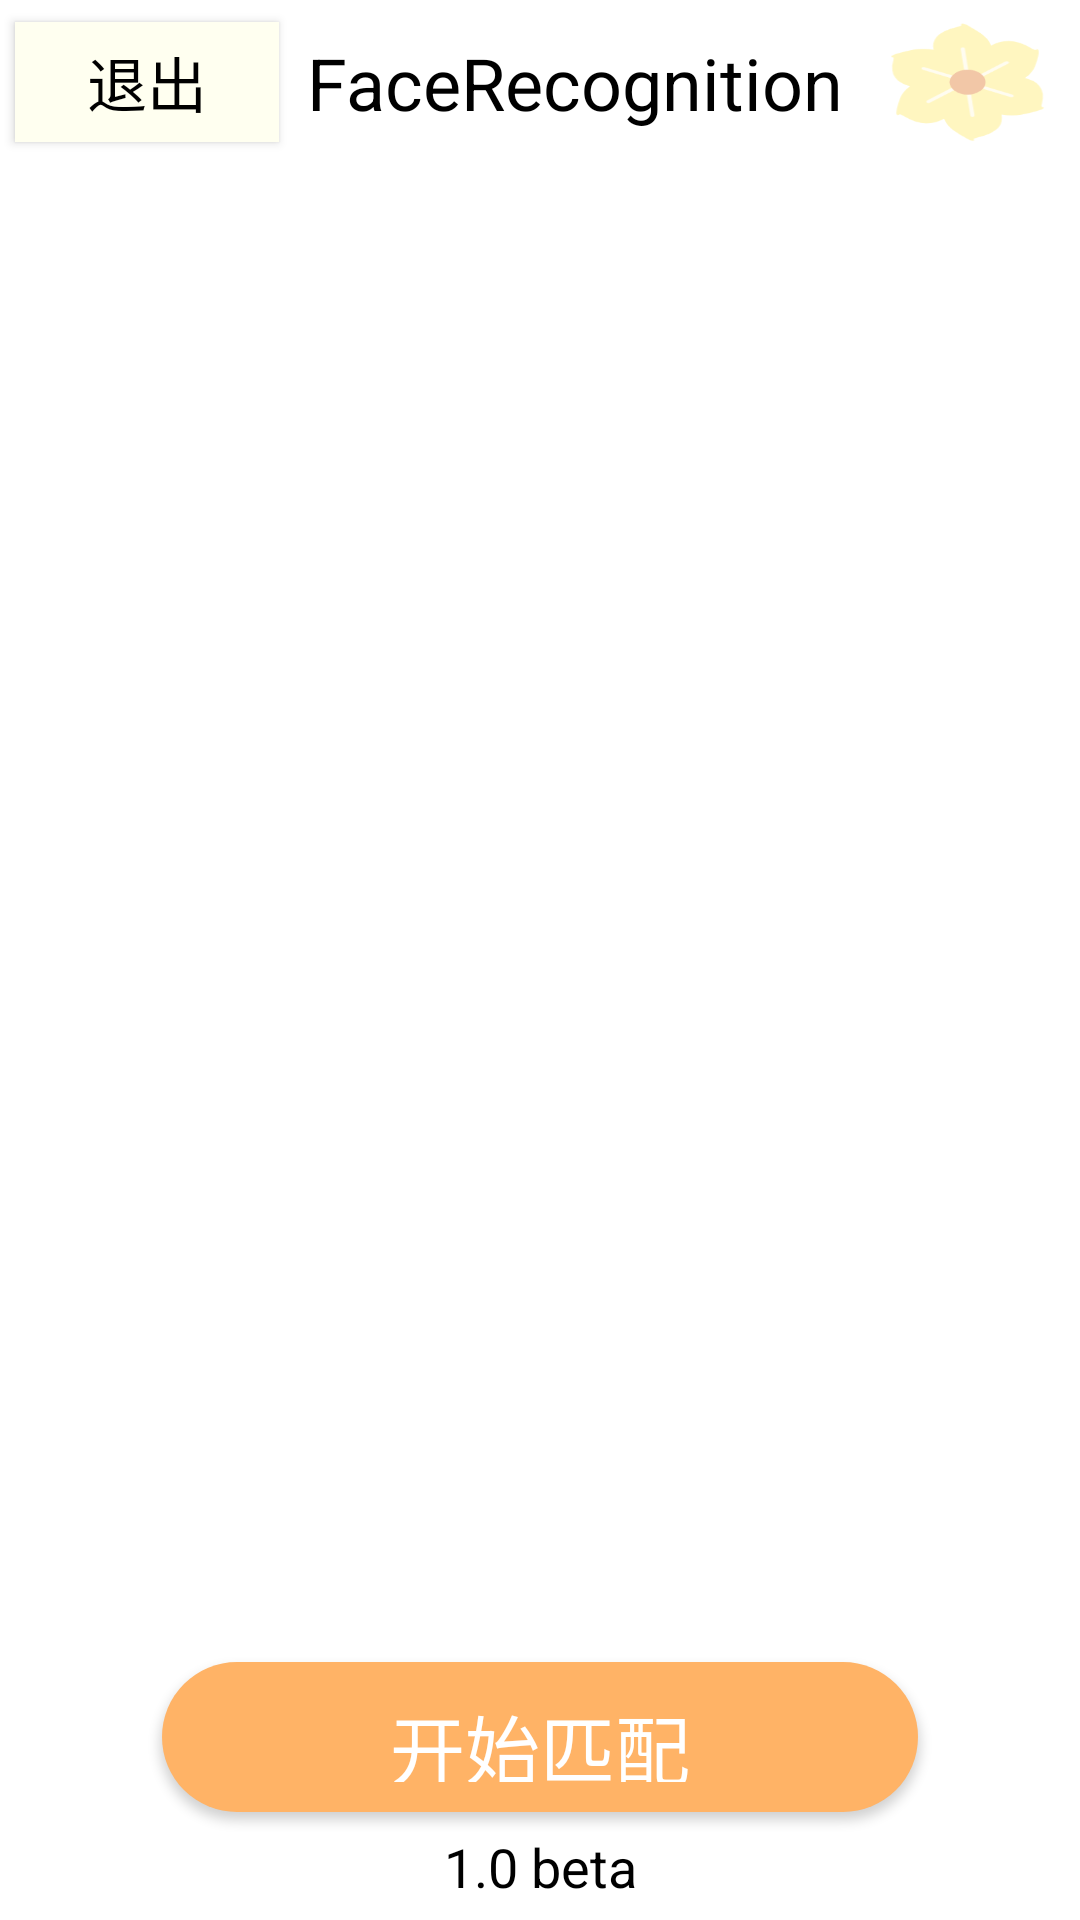

Point at icon controls on the screen. Image size 1080*1920, points as (x,y).
flower: (967,82)
